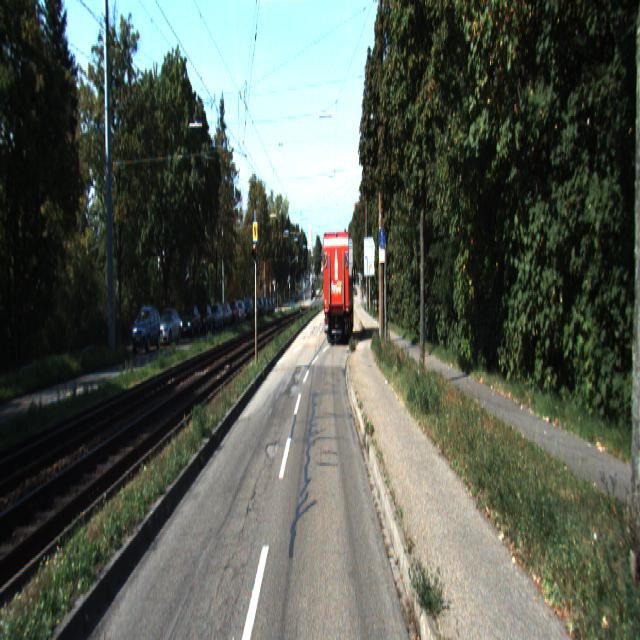Car: (321, 228, 355, 346), (131, 306, 162, 356), (153, 307, 181, 347), (177, 303, 201, 337)
